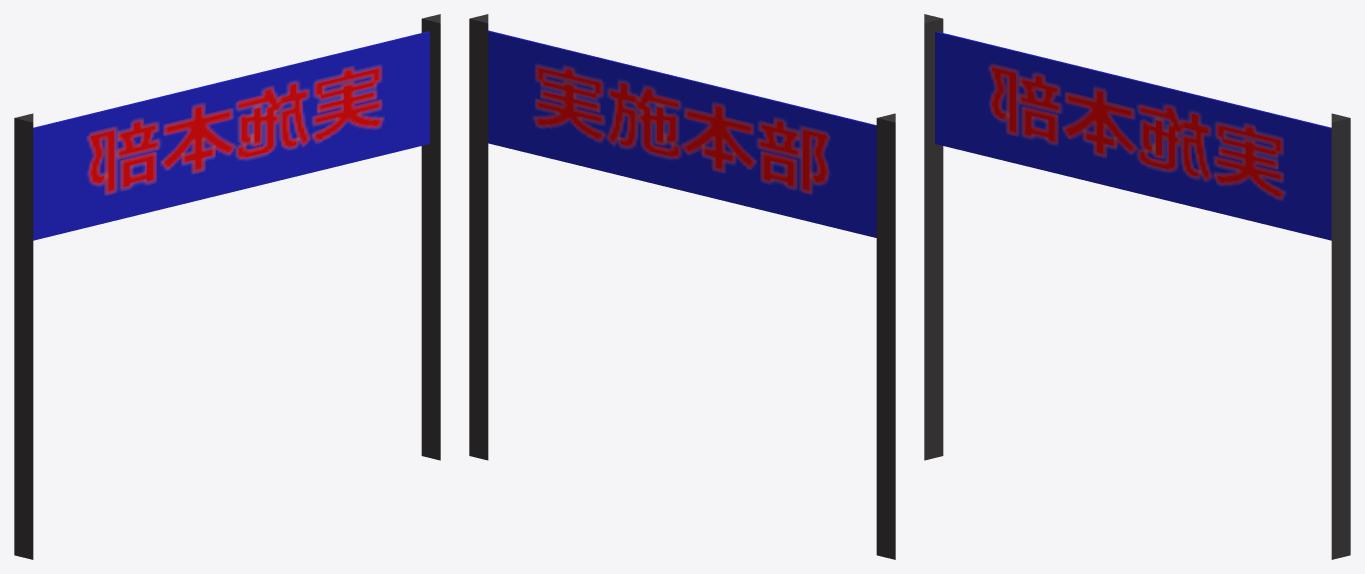
Rendered from honbu.fbx.
3 views of the same model, side by side, from view 1: azimuth 30°, elevation 25°; view 2: azimuth 150°, elevation 25°; view 3: azimuth 330°, elevation 25° (orthographic).
Visible parts, largest first — view 1: 平面, 円柱; view 2: 平面, 円柱; view 3: 平面, 円柱.
Boxes of the visible parts, <box> form: 平面: <box>33,31,429,240</box>; 円柱: <box>14,14,440,559</box>; 平面: <box>488,30,876,237</box>; 円柱: <box>469,14,895,559</box>; 平面: <box>935,31,1331,240</box>; 円柱: <box>924,14,1350,559</box>.
Bounding box in the file's own units: 244 × 240 × 9.48.
